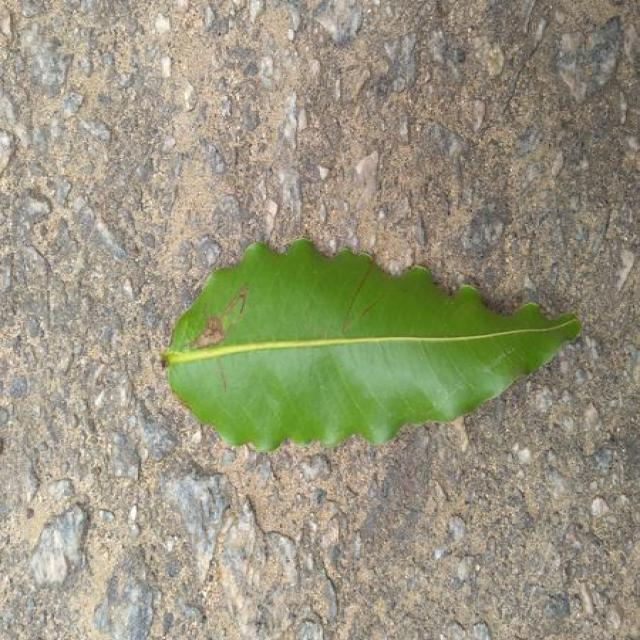ashoka: (163, 239, 580, 451)
defectedashoka: (163, 239, 330, 449)
